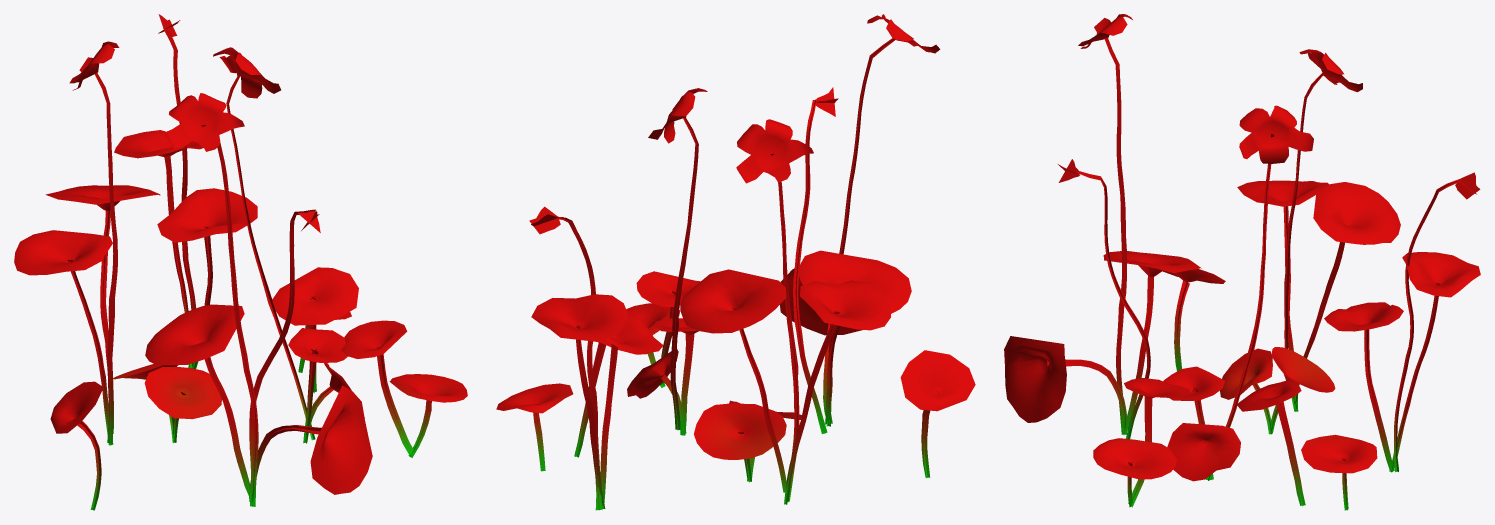
Rendered from Native Violet_LOD1_Var19_ultkcfeja.fbx.
3 views of the same model, side by side, from view 1: azimuth 30°, elevation 25°; view 2: azimuth 150°, elevation 25°; view 3: azimuth 270°, elevation 25° (orthographic). The views are drawn at different scales.
Parts seen in each view (by area): view 1: _lis9_Var19_LOD1; view 2: _lis9_Var19_LOD1; view 3: _lis9_Var19_LOD1.
Boxes of the visible parts, <box> form: _lis9_Var19_LOD1: <box>14,14,467,510</box>; _lis9_Var19_LOD1: <box>496,14,975,510</box>; _lis9_Var19_LOD1: <box>1004,14,1480,510</box>.
Bounding box in the file's own units: 22.96 × 24.42 × 26.35.
